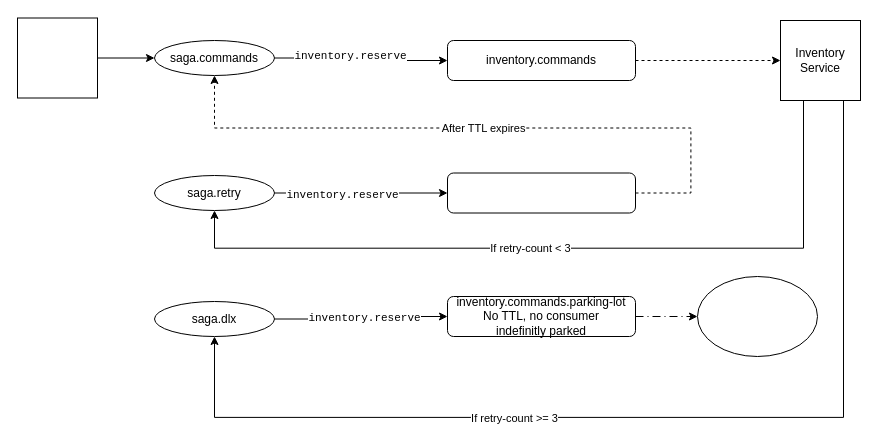
The diagram is 878 pixels wide and 443 high, and some of its shapes have lost their labels. The centre of each missing label's shape, as x and y in pixels:
inventory.commands.retry TTL = 5000ms, no consumer: pixel 541 192
Manual Handle: pixel 757 316
Saga: pixel 57 57
